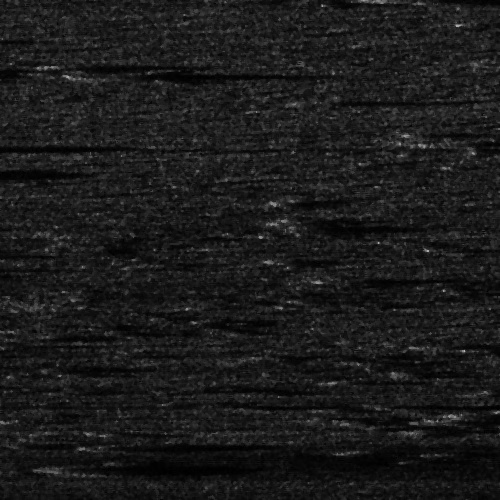object: (43, 51, 84, 78), (22, 459, 95, 474), (407, 408, 480, 421), (60, 437, 123, 448), (33, 71, 116, 78), (380, 342, 463, 347), (395, 427, 426, 432), (302, 220, 313, 233)
shadow: (63, 51, 315, 78), (59, 459, 202, 474), (92, 437, 237, 448), (308, 220, 426, 233), (75, 71, 256, 78), (0, 142, 134, 151), (443, 408, 500, 421), (411, 427, 494, 432), (422, 342, 500, 347), (0, 170, 55, 175)
